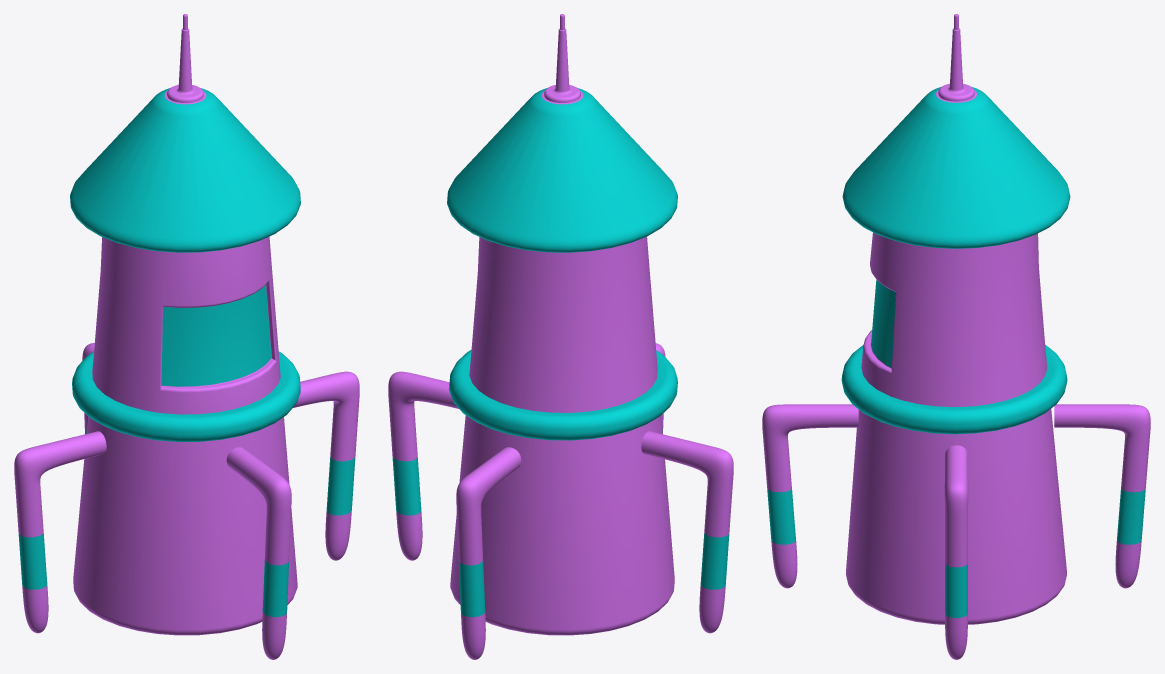
File: Buildings-3.fbx
3 renders of one model, left to right at view 1: azimuth 30°, elevation 25°; view 2: azimuth 150°, elevation 25°; view 3: azimuth 270°, elevation 25°, orthographic.
Visible parts, largest first — view 1: Buildings-3; view 2: Buildings-3; view 3: Buildings-3.
Boxes of the visible parts, x1=… form: Buildings-3: x1=14, y1=14, x2=359, y2=659; Buildings-3: x1=388, y1=14, x2=733, y2=659; Buildings-3: x1=762, y1=14, x2=1150, y2=659.
Bounding box in the file's own units: 785 × 1276 × 785.
